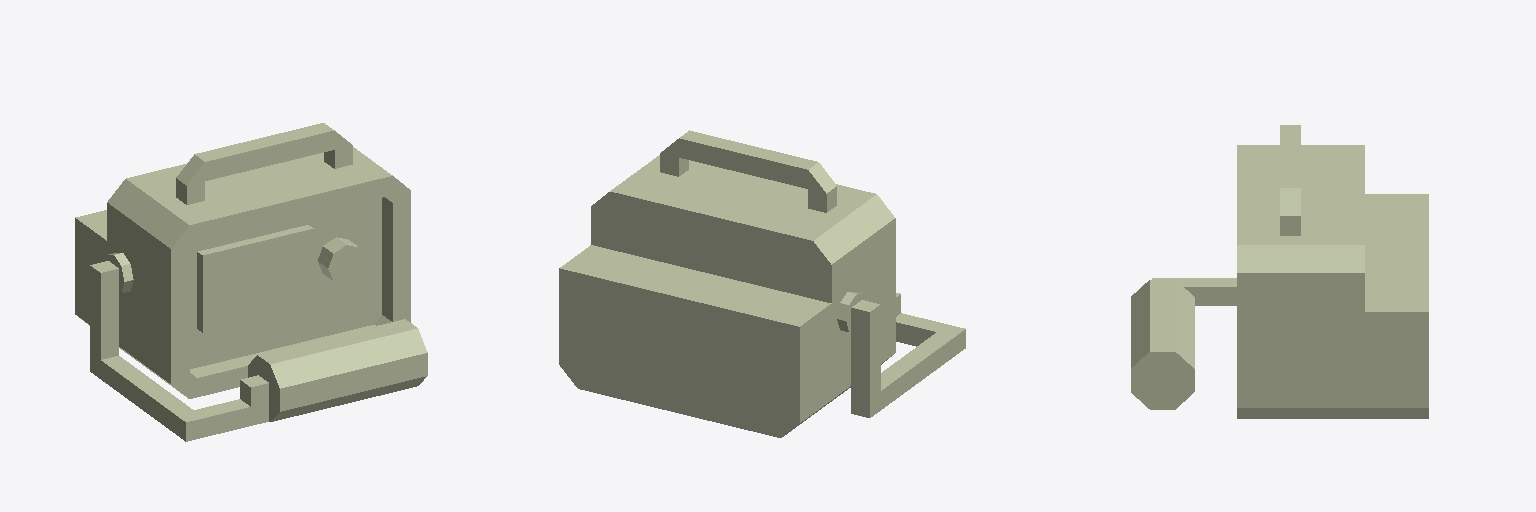
The model's file is geiger.obj.
The picture shows the model from 3 angles: view 1: azimuth 30°, elevation 25°; view 2: azimuth 150°, elevation 25°; view 3: azimuth 270°, elevation 25°; orthographic projection.
Visible parts, largest first — view 1: Cube.001; view 2: Cube.001; view 3: Cube.001.
Boxes of the visible parts, box(x1,y1,x2,y2) form: Cube.001: box(75, 123, 427, 441); Cube.001: box(559, 130, 965, 437); Cube.001: box(1131, 125, 1428, 418).
Size of the model in its own units: 0.9062 by 0.6875 by 0.875.